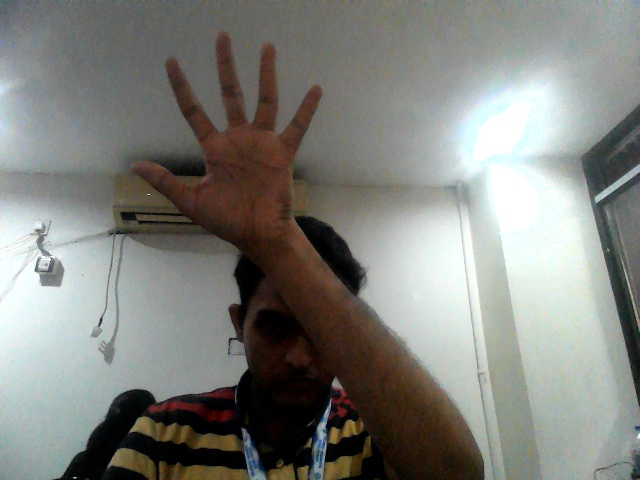palm: (131, 26, 323, 243)
